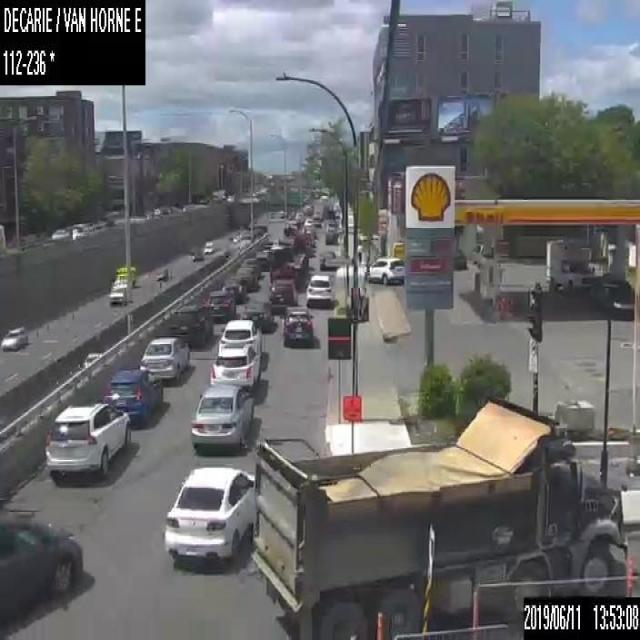construction: (341, 392, 361, 454), (374, 609, 384, 639), (626, 558, 632, 594)
vehicle: (254, 396, 623, 639), (0, 498, 82, 625), (162, 465, 254, 563), (43, 401, 131, 474), (188, 383, 254, 446), (103, 368, 162, 426), (546, 238, 596, 294), (270, 222, 308, 292), (209, 344, 260, 391), (140, 336, 189, 381), (588, 275, 638, 319), (171, 304, 212, 346), (218, 318, 262, 356), (279, 305, 313, 346), (303, 272, 335, 307), (240, 298, 272, 332), (268, 276, 296, 314), (203, 289, 235, 322), (368, 256, 403, 285), (220, 276, 246, 302), (1, 326, 28, 351), (235, 264, 258, 290), (471, 243, 494, 267), (108, 281, 131, 304), (112, 265, 136, 287), (241, 256, 261, 276), (255, 251, 270, 272), (452, 247, 466, 269), (374, 609, 384, 639), (247, 223, 267, 236), (312, 197, 323, 220), (50, 228, 68, 240), (155, 266, 167, 282), (304, 230, 314, 246), (325, 230, 337, 243), (191, 246, 202, 260), (203, 240, 213, 253), (303, 217, 313, 229), (310, 214, 320, 226), (302, 204, 312, 215), (326, 222, 335, 231), (295, 212, 303, 222)
